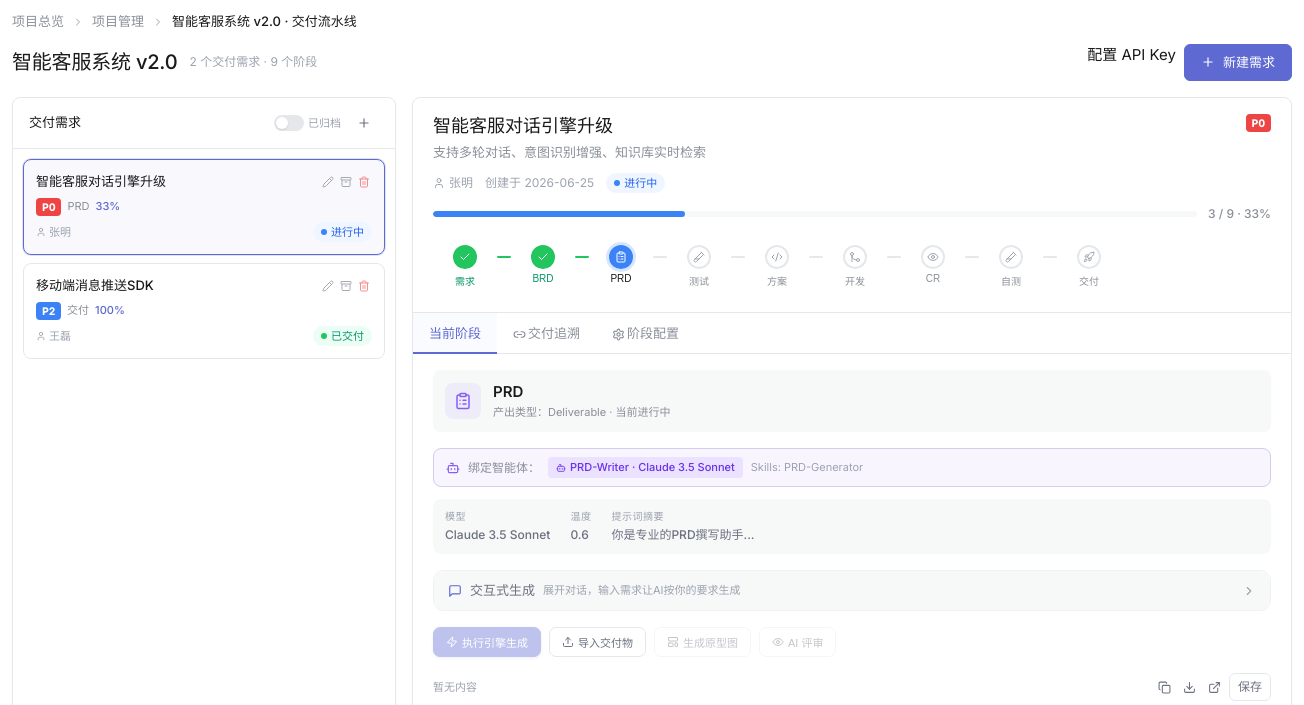
Test: Pipeline page (delivery workspace) › selecting a delivery in a stage without a bound agent renders the no-agent branch without crashing
Click the button with aria-label "选择需求 移动端消息推送SDK" at (95, 285), box [23,263,385,359]
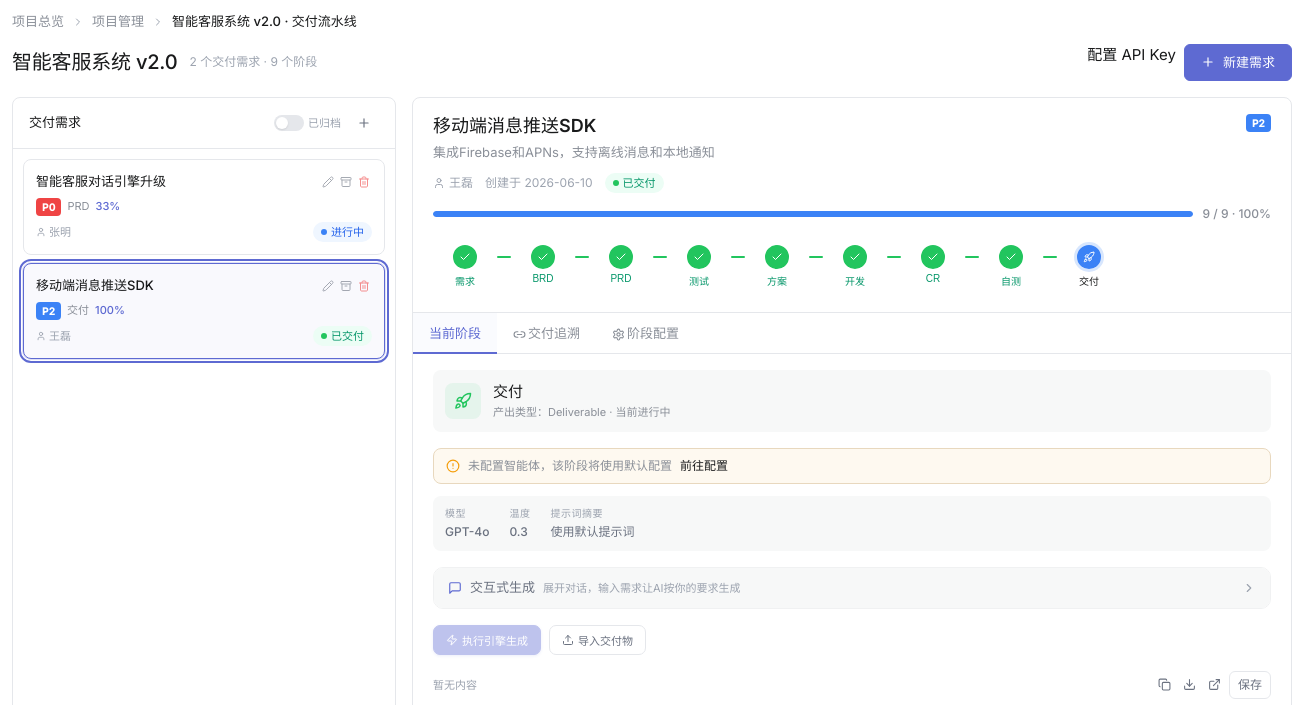
Check: the text "未配置智能体，该阶段将使用默认配置" is shown, box [468,457,672,475]
Check: the text "前往配置" is shown, box [680,457,728,475]
Check: the text with class "delivery-stage-info-name" reads "交付", box [493,382,523,401]
